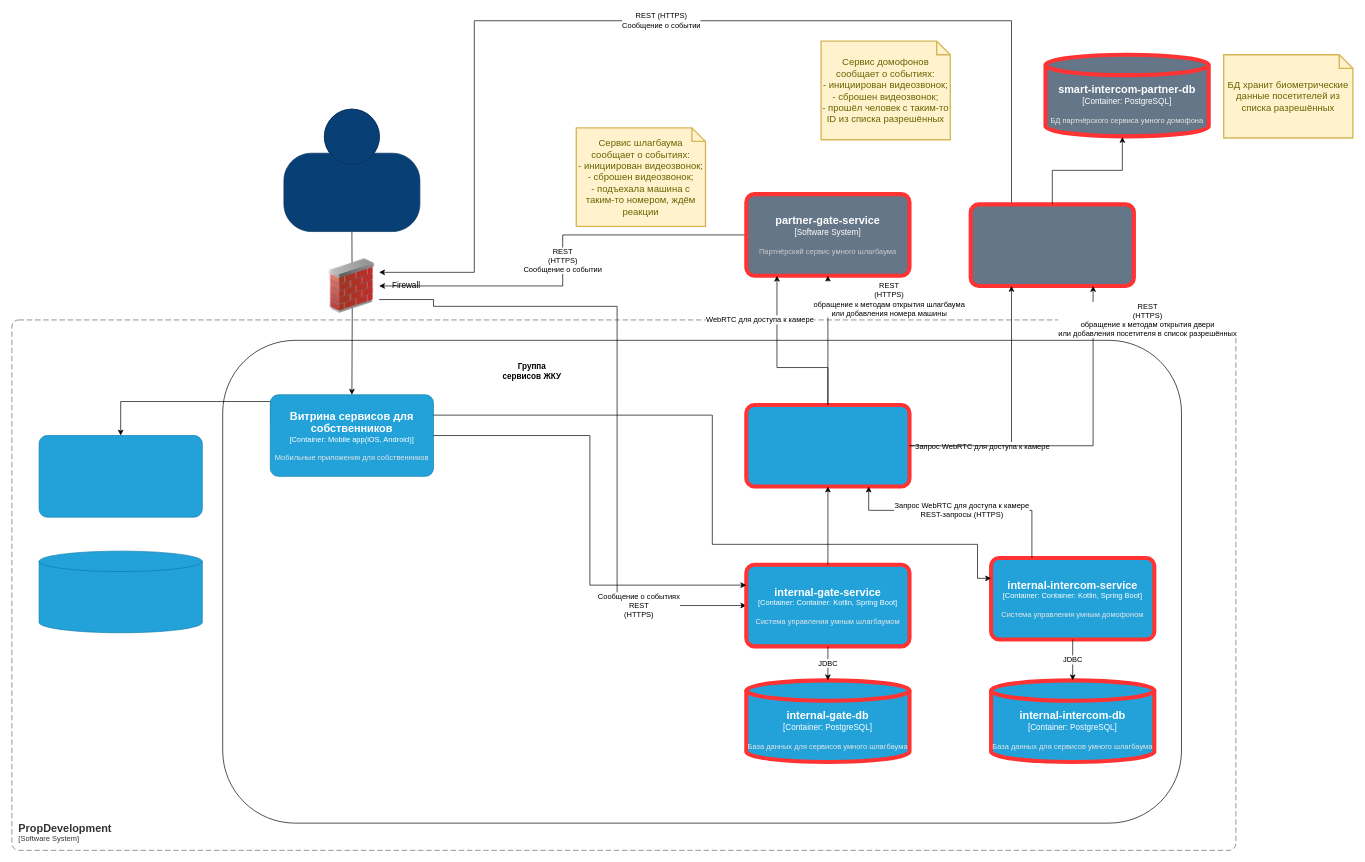
The diagram is 1365 pixels wide and 862 high, and some of its shapes have lost their labels. Here are the shapes that lost their labels. From the top down, the centre of each, then its label:
the point at 351,170: Собственник [Person] Клиент
the point at 1052,245: partner-intercom-service [Software System] Партнёрский сервис умного домофона
the point at 827,445: reverse-proxy [Container: ] Reverse Proxy для доступа в партнёрские сервисы
the point at 120,476: auth-service-1 [Container: Keycloak] Сервис аутентификации покупателей
the point at 120,591: auth-db-1 [Container: PostgreSQL] База данных сервиса аутентификации покупателей
